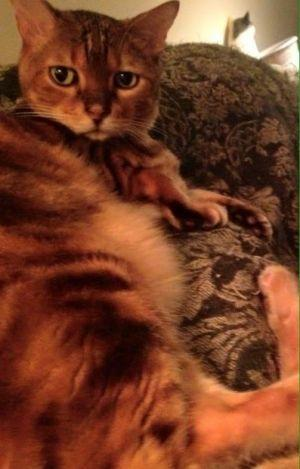bengal: (1, 1, 197, 152)
